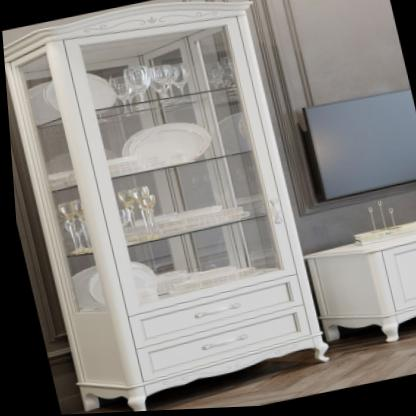Cupboard: (0, 0, 338, 416)
